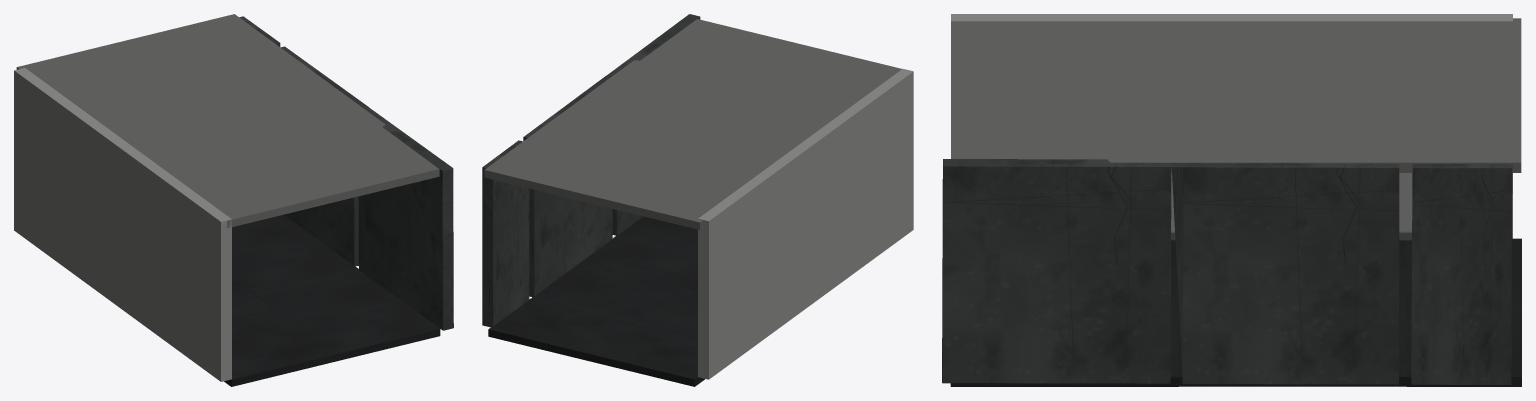
The model's file is lockers_corridor_kit.glb.
3 views of the same model, side by side, from view 1: azimuth 30°, elevation 25°; view 2: azimuth 150°, elevation 25°; view 3: azimuth 270°, elevation 25° (orthographic). The views are drawn at different scales.
Parts seen in each view (by area): view 1: SM_L1_LockersCorridor_Ceiling, SM_L1_LockersCorridor_Wall_W, KIT_PILOT_Z10_Floor_04.001, KIT_PILOT_Z10_Wall_N_02.001, KIT_PILOT_Z10_Floor_04.002, KIT_PILOT_Z10_Wall_N_02.002; view 2: SM_L1_LockersCorridor_Ceiling, SM_L1_LockersCorridor_Wall_W, KIT_PILOT_Z10_Floor_04.002, KIT_PILOT_Z10_Floor_30.001, KIT_PILOT_Z10_Wall_N_02.003, KIT_PILOT_Z10_Wall_N_02.002, KIT_PILOT_Z10_Floor_04.001, KIT_PILOT_Z10_Wall_N_02.001; view 3: SM_L1_LockersCorridor_Ceiling, KIT_PILOT_Z10_Wall_N_02.001, KIT_PILOT_Z10_Wall_N_02.002, KIT_PILOT_Z10_Wall_N_02.003, SM_L1_LockersCorridor_Wall_W, KIT_PILOT_Z10_Floor_30.001, KIT_PILOT_Z10_Floor_04.001, KIT_PILOT_Z10_Floor_04.002.
Part boxes in pixels (bbox=[...]): SM_L1_LockersCorridor_Ceiling: bbox=[16, 14, 439, 228]; SM_L1_LockersCorridor_Wall_W: bbox=[14, 68, 231, 381]; KIT_PILOT_Z10_Floor_04.001: bbox=[224, 267, 440, 386]; KIT_PILOT_Z10_Wall_N_02.001: bbox=[358, 107, 453, 330]; KIT_PILOT_Z10_Floor_04.002: bbox=[232, 214, 355, 297]; KIT_PILOT_Z10_Wall_N_02.002: bbox=[280, 46, 368, 266]; SM_L1_LockersCorridor_Ceiling: bbox=[484, 19, 901, 229]; SM_L1_LockersCorridor_Wall_W: bbox=[698, 69, 913, 379]; KIT_PILOT_Z10_Floor_04.002: bbox=[531, 238, 697, 339]; KIT_PILOT_Z10_Floor_30.001: bbox=[488, 298, 704, 386]; KIT_PILOT_Z10_Wall_N_02.003: bbox=[482, 140, 529, 327]; KIT_PILOT_Z10_Wall_N_02.002: bbox=[523, 75, 612, 297]; KIT_PILOT_Z10_Floor_04.001: bbox=[613, 216, 697, 258]; KIT_PILOT_Z10_Wall_N_02.001: bbox=[607, 14, 700, 235]; SM_L1_LockersCorridor_Ceiling: bbox=[951, 18, 1521, 172]; KIT_PILOT_Z10_Wall_N_02.001: bbox=[942, 159, 1171, 383]; KIT_PILOT_Z10_Wall_N_02.002: bbox=[1171, 163, 1399, 384]; KIT_PILOT_Z10_Wall_N_02.003: bbox=[1411, 164, 1512, 385]; SM_L1_LockersCorridor_Wall_W: bbox=[951, 14, 1512, 238]; KIT_PILOT_Z10_Floor_30.001: bbox=[1406, 238, 1521, 386]; KIT_PILOT_Z10_Floor_04.001: bbox=[950, 240, 1179, 386]; KIT_PILOT_Z10_Floor_04.002: bbox=[1179, 240, 1406, 386].
Size of the model in its own units: 6.31 by 4.4 by 10.16.
5 materials, 2 textured.
